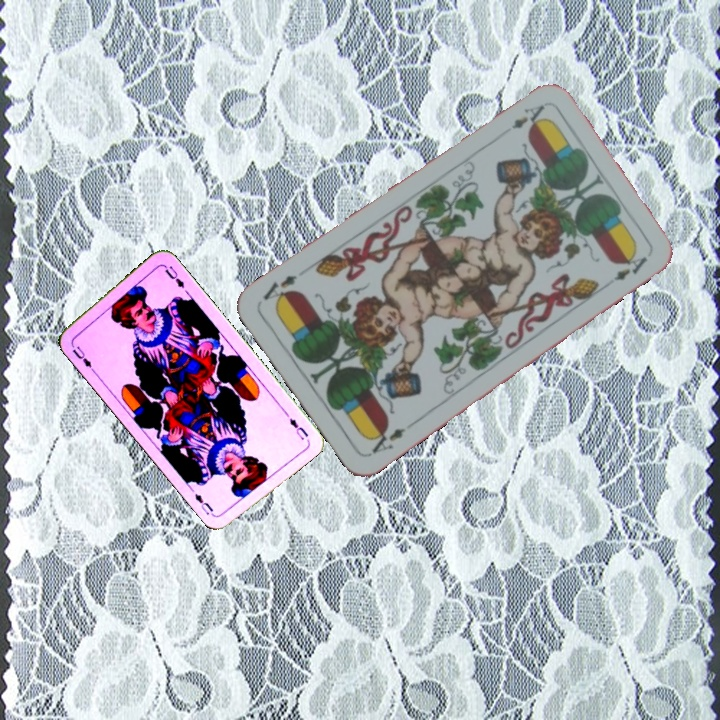EA: (366, 422, 408, 456), (507, 100, 548, 132)
EU: (67, 339, 97, 374), (285, 414, 311, 443)
